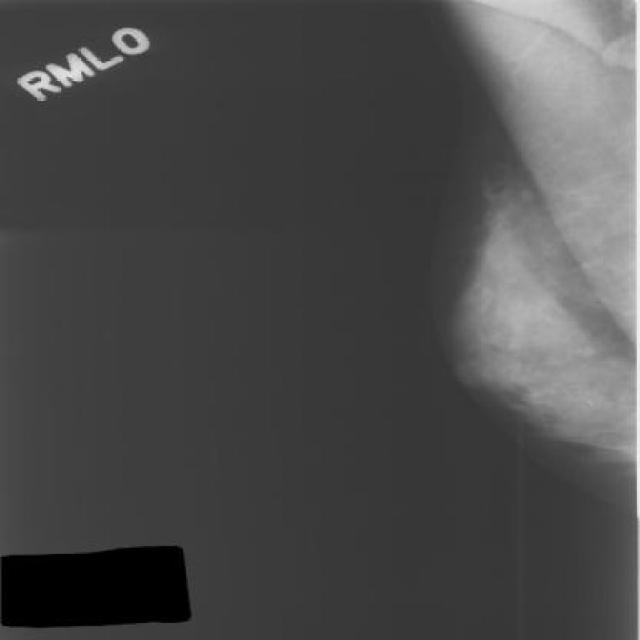tumor: (448, 226, 619, 422)
